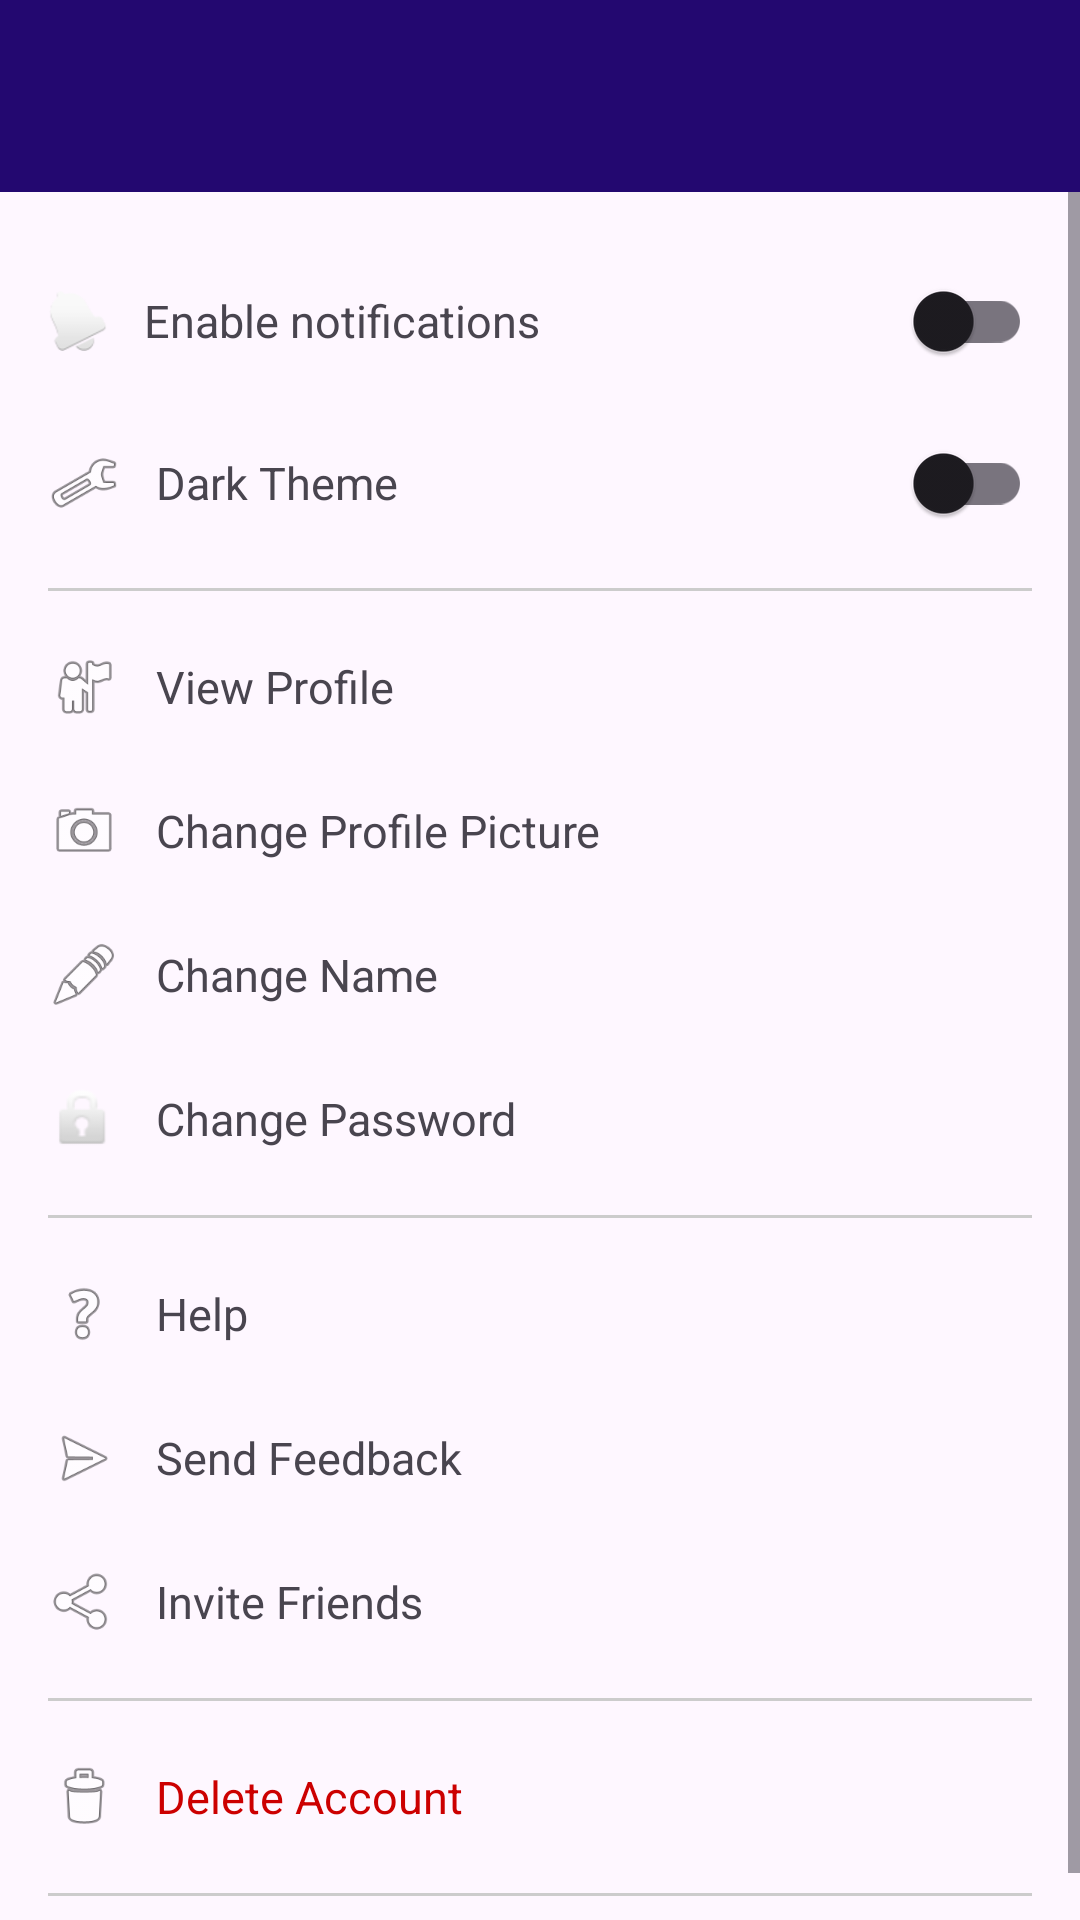

Point at icon controls on the screen. Image size 1080px x 1920px, points as [x,y].
camera: [84,830]
edit: [83,974]
manage: [83,483]
myplaces: [85,687]
share: [80,1601]
